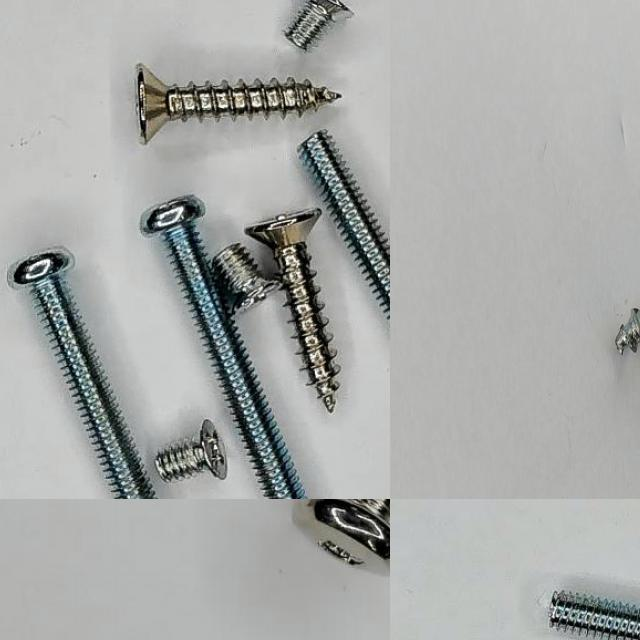Screw: (141, 195, 307, 499), (8, 249, 155, 499), (246, 209, 340, 413), (302, 131, 390, 319), (137, 64, 340, 143), (298, 499, 390, 575), (213, 243, 282, 312), (155, 420, 226, 483), (549, 592, 640, 640), (285, 0, 355, 50)
